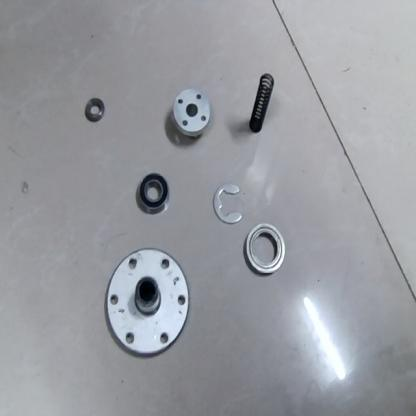FOD: (101, 247, 190, 360), (241, 223, 289, 279), (169, 88, 210, 142), (246, 72, 279, 135), (134, 172, 173, 216), (212, 183, 242, 225), (84, 96, 106, 124)
